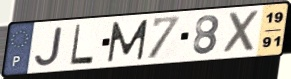7: (146, 15, 182, 62)
8: (191, 14, 221, 55)
J: (33, 25, 66, 68)
L: (68, 23, 95, 66)
M: (106, 18, 151, 64)
X: (222, 8, 263, 56)
